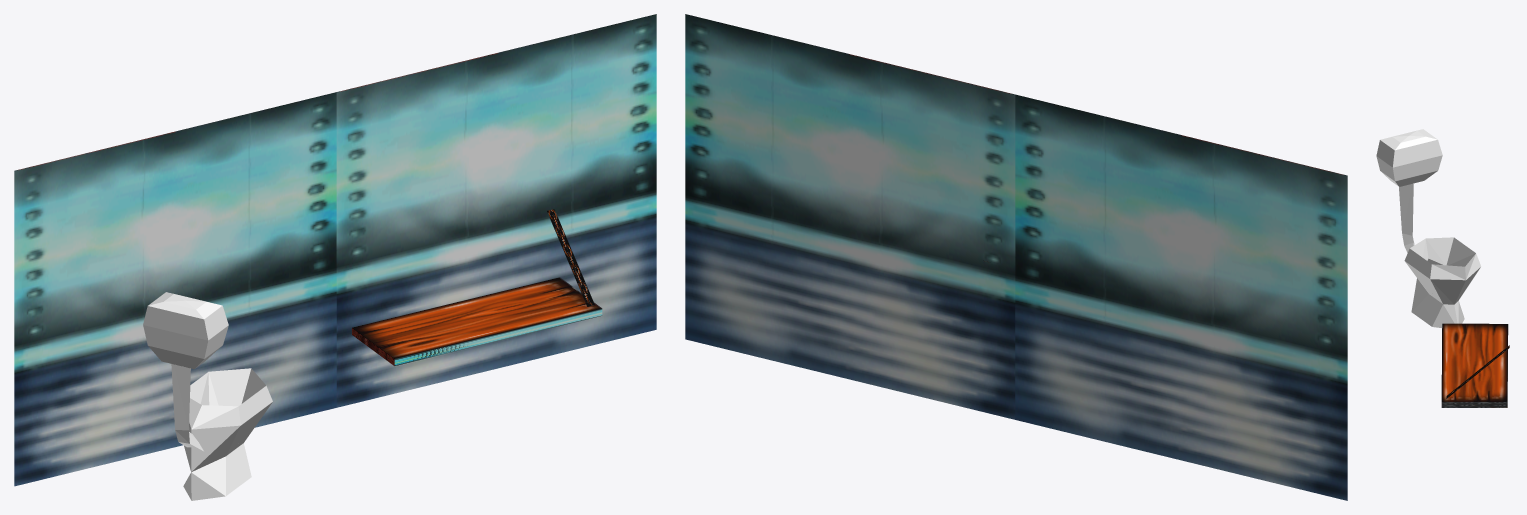
File: Polizei_Wand_K13_2560.glb
The picture shows the model from 3 angles, left to right: view 1: azimuth 30°, elevation 25°; view 2: azimuth 150°, elevation 25°; view 3: azimuth 270°, elevation 25°; orthographic projection. The views are drawn at different scales.
Parts seen in each view (by area): view 1: pPlaneShape362, pCubeShape20, pSphereShape83, pSphereShape84, pCylinderShape160, pPlaneShape361; view 2: pPlaneShape362; view 3: pCubeShape20, pSphereShape83, pSphereShape84, pCylinderShape160, pPlaneShape361.
Part boxes in pixels (<box>): pPlaneShape362: <box>14,14,656,486</box>; pCubeShape20: <box>352,277,602,365</box>; pSphereShape83: <box>183,368,272,500</box>; pSphereShape84: <box>143,292,228,369</box>; pCylinderShape160: <box>171,364,203,451</box>; pPlaneShape361: <box>547,209,594,306</box>; pPlaneShape362: <box>685,14,1347,500</box>; pCubeShape20: <box>1441,323,1508,407</box>; pSphereShape83: <box>1404,237,1481,327</box>; pSphereShape84: <box>1376,129,1442,186</box>; pCylinderShape160: <box>1399,183,1414,252</box>; pPlaneShape361: <box>1446,345,1509,398</box>.
Bounding box in the file's own units: 0.8288 × 0.3891 × 0.1966.
Materials: 7 (4 with a texture image).
